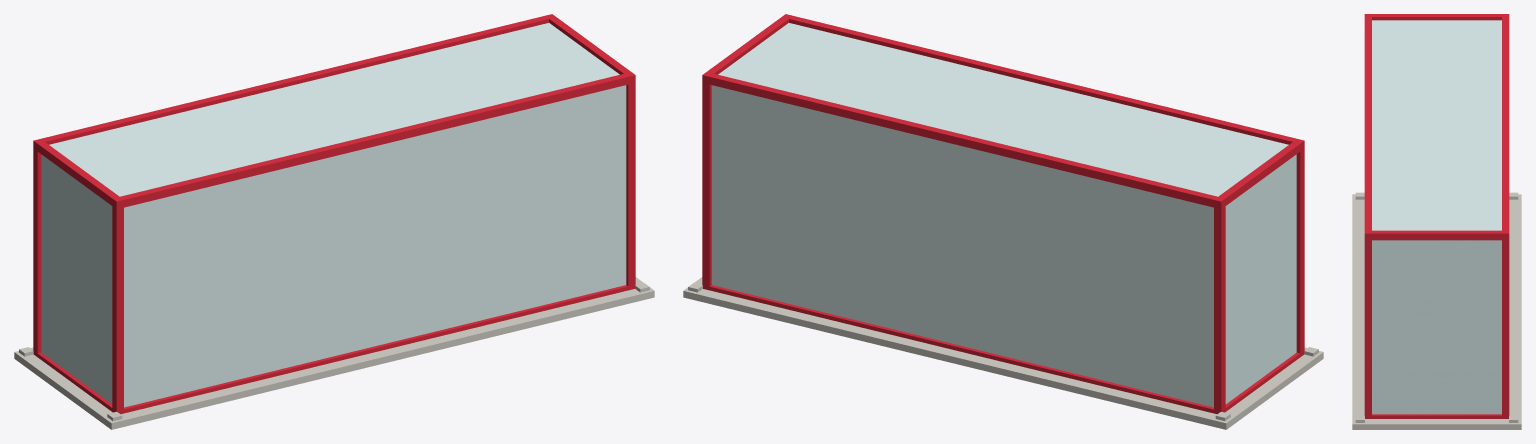
File: porsche-919-la-mania.glb
3 renders of one model, left to right at view 1: azimuth 30°, elevation 25°; view 2: azimuth 150°, elevation 25°; view 3: azimuth 270°, elevation 25°, orthographic. The views are drawn at different scales.
Size of the model in its own units: 0.515 by 0.1995 by 0.16.
